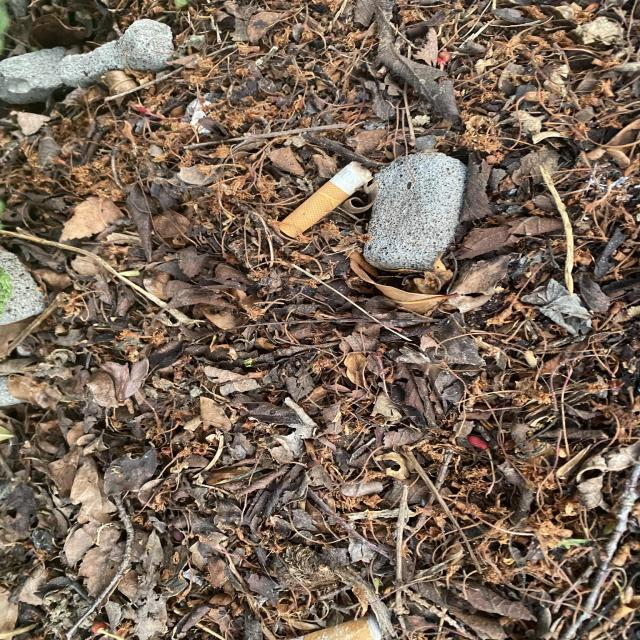other waste: (278, 161, 374, 238)
